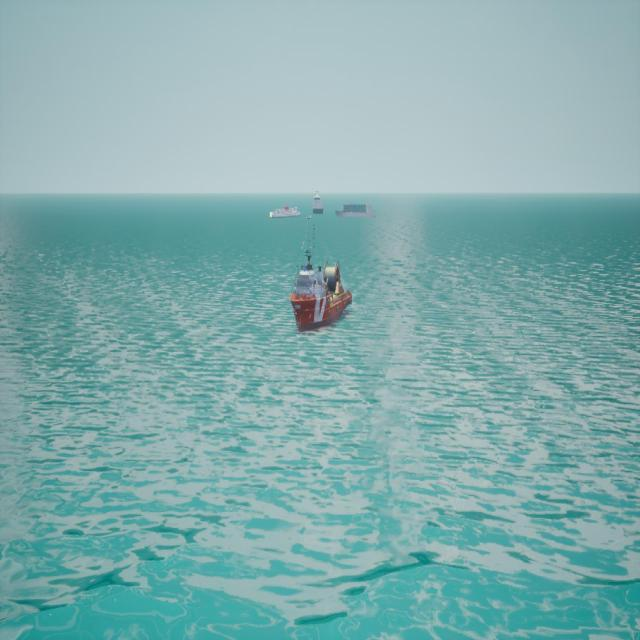tug boat: (290, 200, 350, 335)
